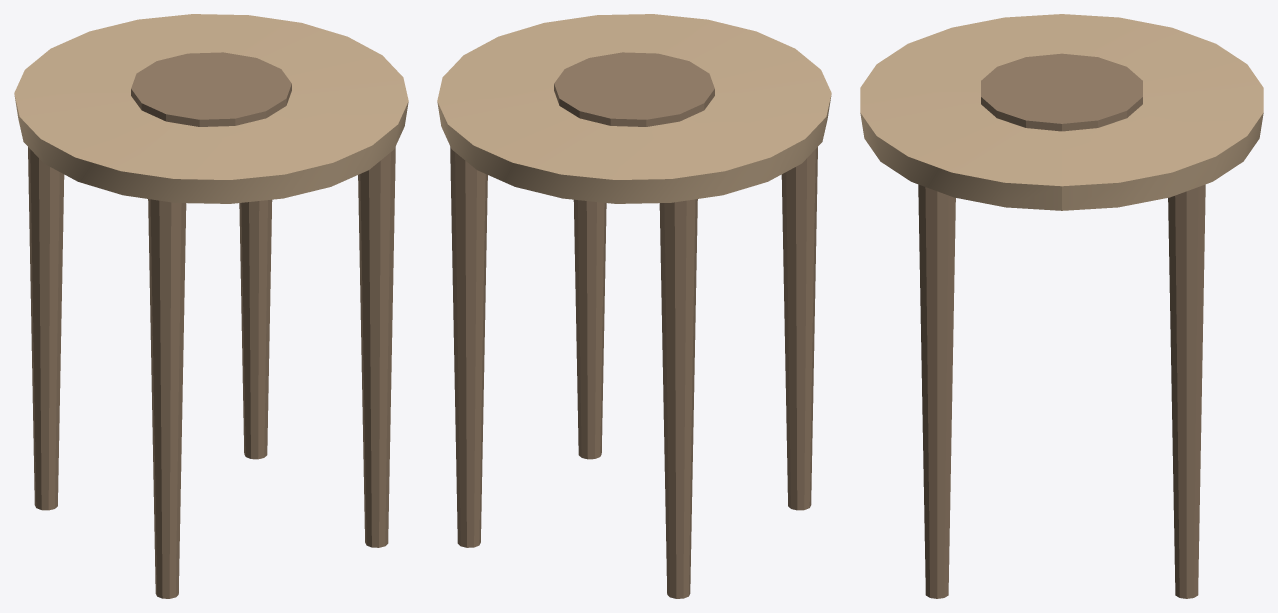
The model's file is bedroom-and-living-room-furniture-side-table-round-13533cb3.glb.
The picture shows the model from 3 angles, left to right: view 1: azimuth 30°, elevation 25°; view 2: azimuth 150°, elevation 25°; view 3: azimuth 270°, elevation 25°; orthographic projection. The views are drawn at different scales.
Visible parts, largest first — view 1: side-table-round; view 2: side-table-round; view 3: side-table-round.
Boxes of the visible parts, x1,y1,x2,y2 form: side-table-round: [14, 14, 408, 598]; side-table-round: [437, 14, 831, 598]; side-table-round: [860, 14, 1263, 598].
Size of the model in its own units: 0.49 by 0.6 by 0.485.
